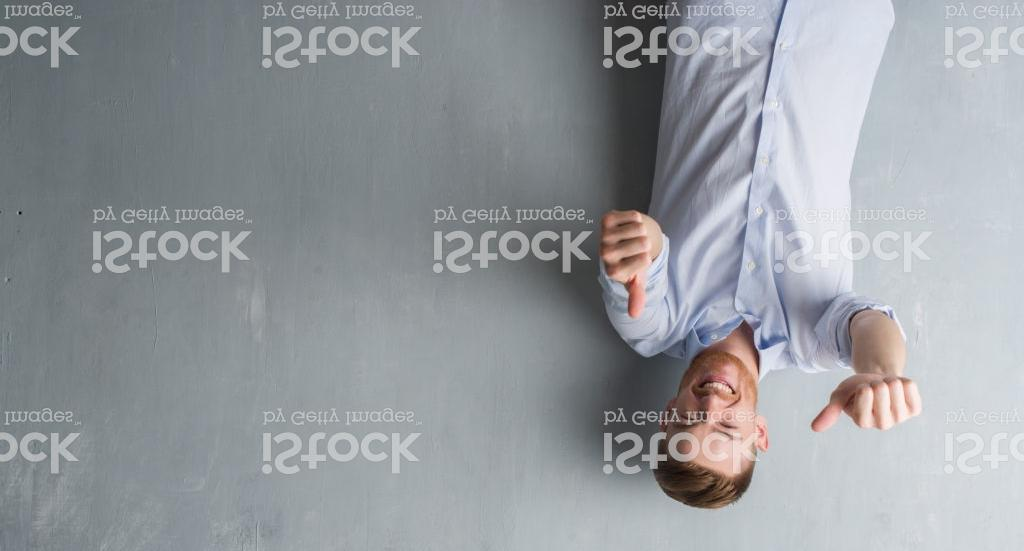thumbsdown: (597, 207, 653, 321)
